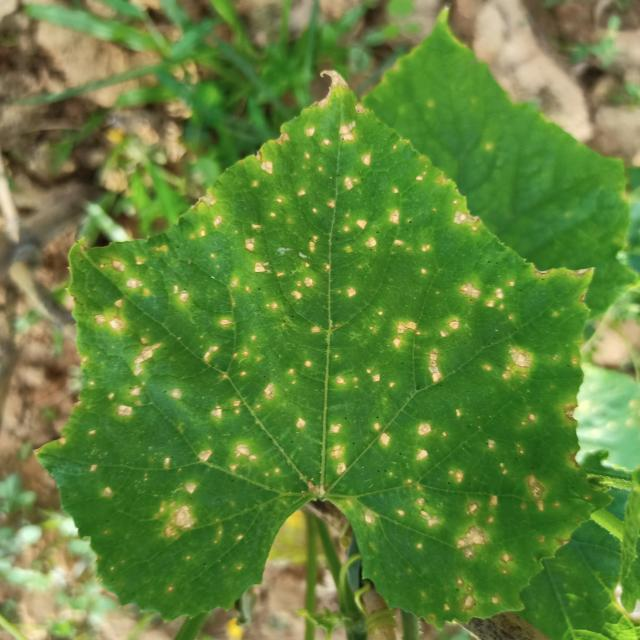disease_cucumber: (112, 120, 549, 392), (73, 295, 388, 553), (328, 319, 583, 612)
